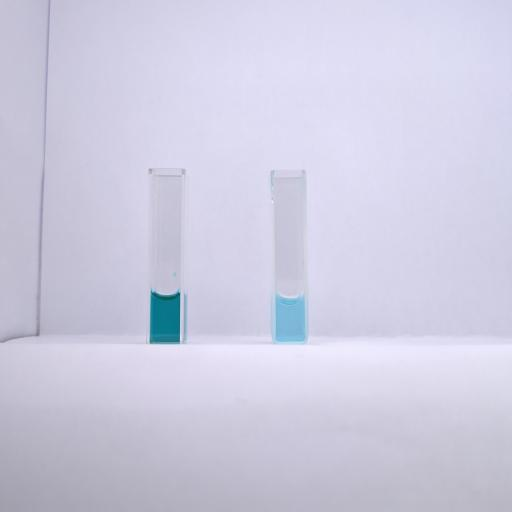cuvette: (268, 167, 310, 346), (145, 166, 186, 348)
liquid: (151, 292, 180, 343), (274, 296, 304, 342)
